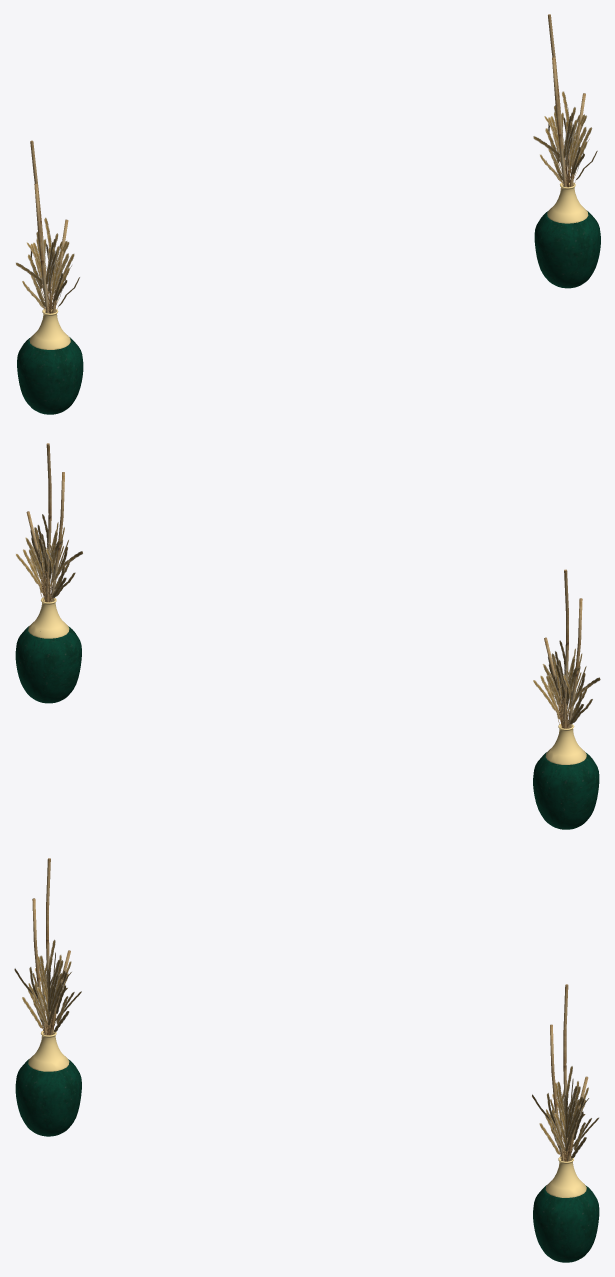
The model's file is Vase.glb.
3 views of the same model, one above another, from view 1: azimuth 30°, elevation 25°; view 2: azimuth 150°, elevation 25°; view 3: azimuth 330°, elevation 25° (orthographic).
Parts seen in each view (by area): view 1: Vase2, Vase1; view 2: Vase1, Vase2; view 3: Vase1, Vase2.
Part boxes in pixels (bbox=[...]): Vase2: bbox=[16, 140, 83, 414]; Vase1: bbox=[533, 14, 600, 288]; Vase1: bbox=[15, 443, 82, 703]; Vase2: bbox=[533, 569, 600, 829]; Vase1: bbox=[532, 984, 599, 1262]; Vase2: bbox=[14, 858, 81, 1136].
Size of the model in its own units: 3.27 by 1.43 by 0.3288.
4 materials, 4 textured.
